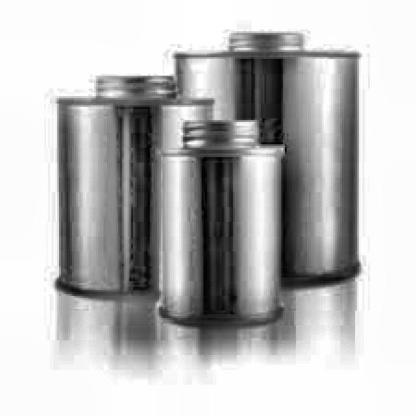Can: (169, 28, 365, 292), (52, 70, 220, 306), (153, 116, 291, 332)
